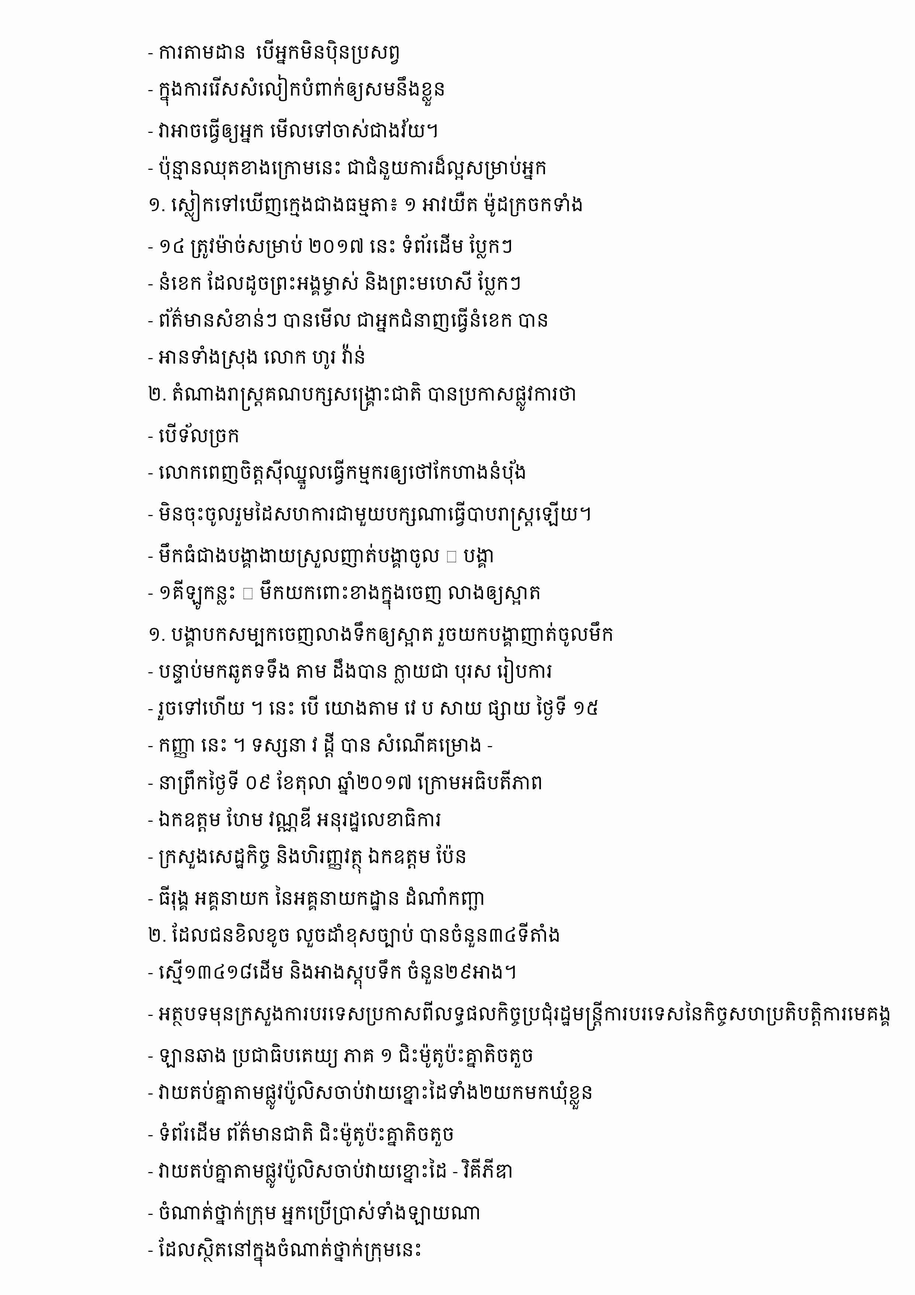text: (148, 1001, 896, 1031), (148, 190, 588, 222), (148, 1079, 598, 1110), (148, 501, 597, 531), (148, 382, 582, 411), (148, 621, 619, 647), (148, 580, 546, 610), (148, 459, 532, 490), (148, 695, 604, 721), (148, 656, 557, 684), (148, 959, 522, 989), (148, 1158, 518, 1188), (148, 922, 566, 948), (148, 307, 554, 333), (148, 155, 552, 180), (148, 770, 548, 795), (148, 270, 526, 296), (148, 1043, 539, 1068), (148, 844, 472, 874), (148, 74, 450, 106), (148, 233, 518, 259), (148, 732, 498, 758), (148, 885, 490, 911), (148, 543, 500, 568), (148, 1200, 486, 1225), (148, 1237, 427, 1267), (148, 1121, 459, 1147), (148, 807, 446, 832), (148, 118, 444, 143), (148, 39, 406, 65), (148, 343, 371, 370), (148, 423, 245, 448)
